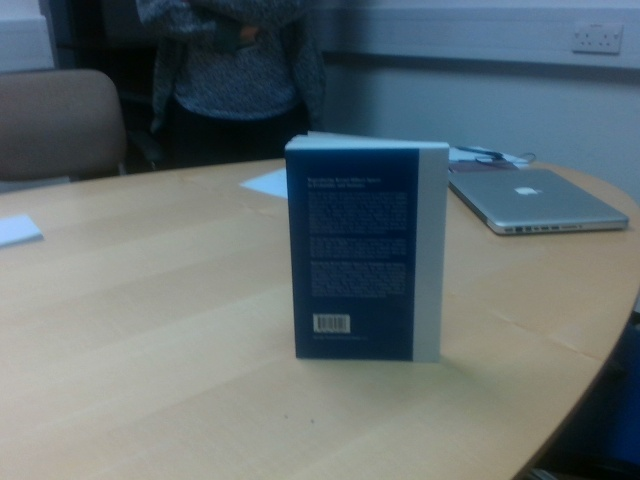book: (284, 129, 450, 362)
